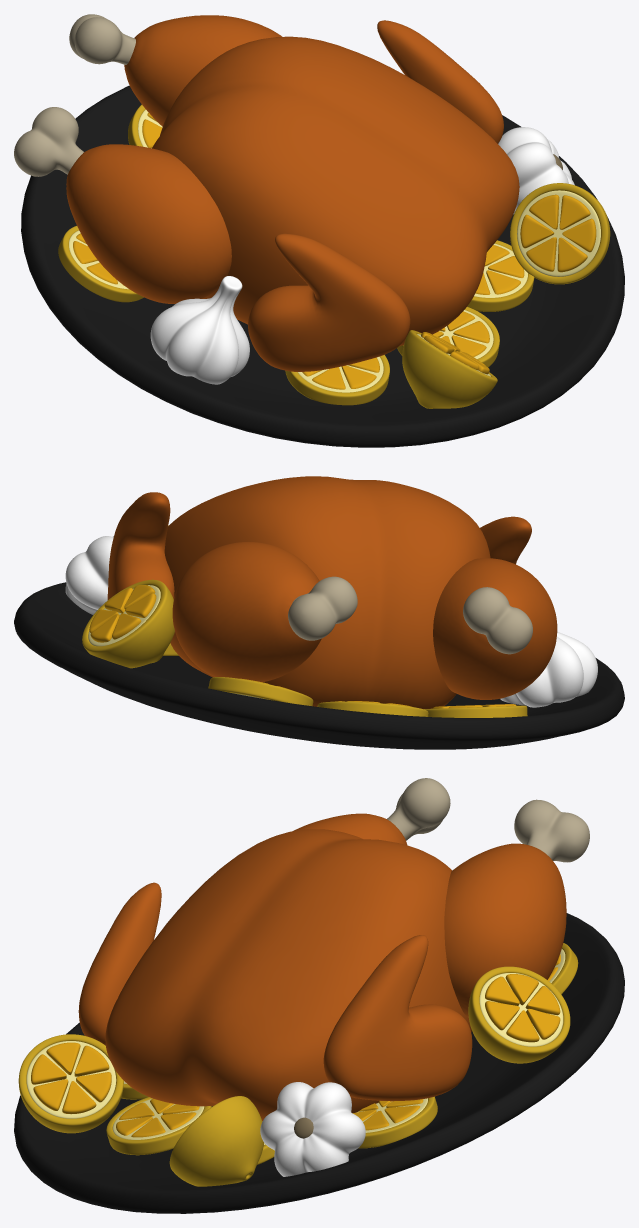
3 renders of one model, top to bottom at view 1: azimuth 30°, elevation 25°; view 2: azimuth 150°, elevation 25°; view 3: azimuth 270°, elevation 25°, orthographic. The views are drawn at different scales.
Parts seen in each view (by area): view 1: Cube.078, Circle.118, Circle.167, Plane.072, Circle.119, Cube.080, Cylinder.003, Circle.121, Circle.120, Cylinder.008, Cylinder.009, Cylinder.011 (+10 smaller); view 2: Cube.078, Circle.167, Circle.118, Plane.072, Cube.080, Circle.119, Cylinder.001, Circle.120, Circle.122, Cylinder.017, Cylinder.015, Cylinder.019 (+1 smaller); view 3: Cube.078, Circle.118, Plane.072, Circle.167, Circle.120, Cylinder.008, Cube.080, Circle.123, Circle.122, Cylinder.001, Cylinder.003, Circle.124 (+7 smaller).
Boxes of the visible parts, bbox=[...] form: Cube.078: bbox=[152, 36, 519, 345]; Circle.118: bbox=[21, 85, 624, 447]; Circle.167: bbox=[66, 15, 282, 303]; Plane.072: bbox=[248, 20, 503, 371]; Circle.119: bbox=[150, 276, 249, 384]; Cube.080: bbox=[14, 14, 135, 176]; Cylinder.003: bbox=[402, 330, 497, 408]; Circle.121: bbox=[520, 194, 596, 272]; Circle.120: bbox=[498, 127, 574, 214]; Cylinder.008: bbox=[510, 183, 610, 284]; Cylinder.009: bbox=[517, 190, 600, 276]; Cylinder.011: bbox=[285, 355, 389, 405]; Cube.078: bbox=[164, 476, 490, 709]; Circle.167: bbox=[172, 542, 557, 699]; Circle.118: bbox=[14, 582, 624, 749]; Plane.072: bbox=[107, 492, 531, 599]; Cube.080: bbox=[288, 576, 532, 654]; Circle.119: bbox=[500, 631, 597, 707]; Cylinder.001: bbox=[82, 579, 174, 668]; Circle.120: bbox=[65, 536, 113, 614]; Circle.122: bbox=[89, 585, 156, 642]; Cylinder.017: bbox=[208, 677, 313, 706]; Cylinder.015: bbox=[424, 705, 527, 717]; Cylinder.019: bbox=[317, 701, 428, 716]; Cube.078: bbox=[105, 829, 471, 1120]; Circle.118: bbox=[14, 913, 624, 1213]; Plane.072: bbox=[78, 882, 472, 1101]; Circle.167: bbox=[293, 813, 566, 1017]; Circle.120: bbox=[260, 1082, 365, 1176]; Cylinder.008: bbox=[169, 1096, 263, 1186]; Cube.080: bbox=[387, 778, 589, 862]; Circle.123: bbox=[31, 1042, 111, 1114]; Circle.122: bbox=[485, 974, 560, 1042]; Cylinder.001: bbox=[468, 966, 570, 1063]; Cylinder.003: bbox=[18, 1034, 123, 1133]; Circle.124: bbox=[116, 1098, 199, 1137].
Size of the model in its own units: 3.29 by 1.64 by 3.18.
